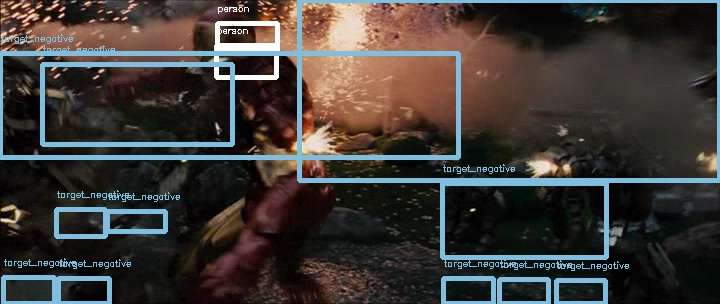person: (194, 12, 251, 80), (193, 12, 250, 80), (195, 12, 252, 80), (194, 11, 251, 79), (194, 13, 251, 81)
target_negative: (57, 110, 702, 260), (448, 17, 614, 227), (276, 163, 379, 217), (538, 99, 633, 157), (672, 40, 717, 90), (309, 290, 703, 293)
